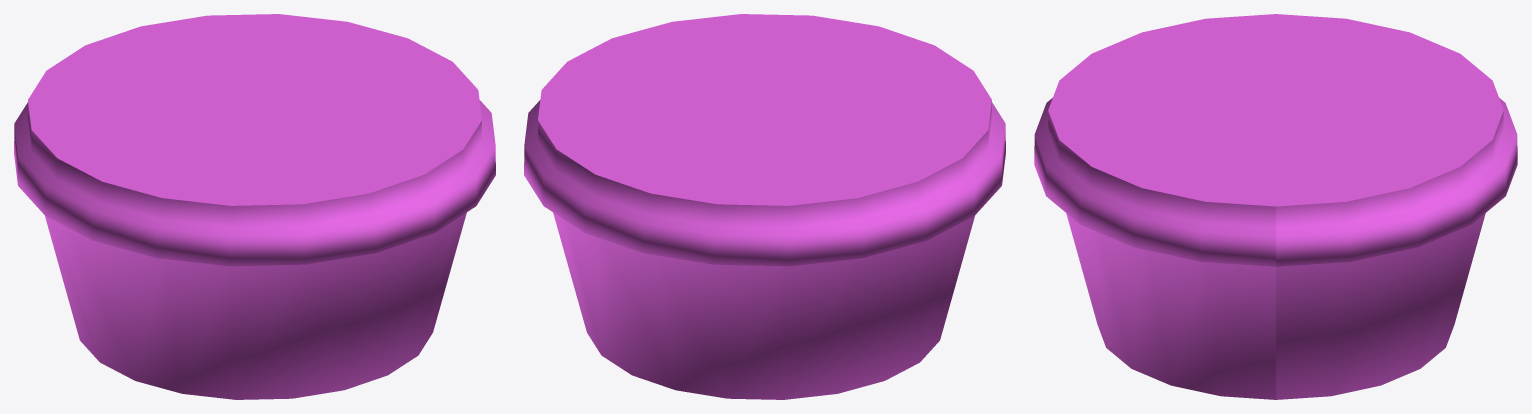
File: Rondtub_Pop.fbx
3 views of the same model, side by side, from view 1: azimuth 30°, elevation 25°; view 2: azimuth 150°, elevation 25°; view 3: azimuth 270°, elevation 25° (orthographic).
Visible parts, largest first — view 1: Roundtub_mesh; view 2: Roundtub_mesh; view 3: Roundtub_mesh.
Part boxes in pixels (left/top/right/bottom): Roundtub_mesh: left=14, top=14, right=495, bottom=399; Roundtub_mesh: left=524, top=14, right=1005, bottom=399; Roundtub_mesh: left=1034, top=14, right=1517, bottom=399.
Bounding box in the file's own units: 214 × 104 × 214.
